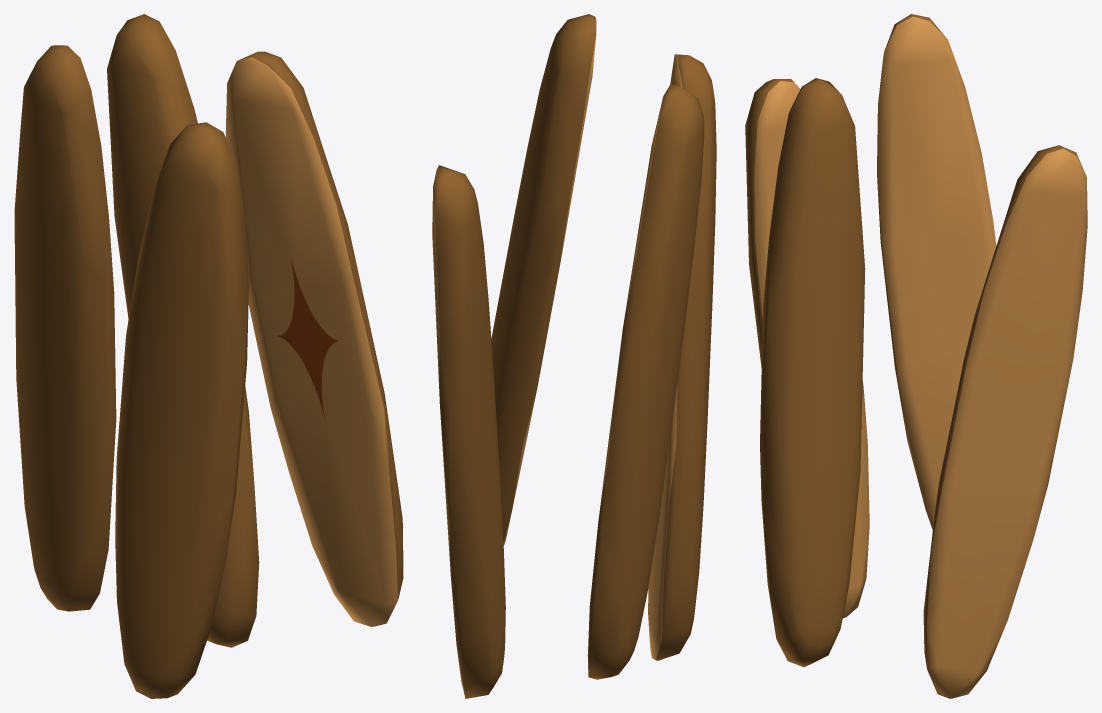
The model's file is yoot-animation-2-korean-darker-more.glb.
3 views of the same model, side by side, from view 1: azimuth 30°, elevation 25°; view 2: azimuth 150°, elevation 25°; view 3: azimuth 270°, elevation 25° (orthographic). The views are drawn at different scales.
Parts seen in each view (by area): view 1: yoot1, yoot0, yoot2, yoot3; view 2: yoot2, yoot3, yoot0, yoot1; view 3: yoot3, yoot0, yoot2, yoot1.
Boxes of the visible parts, left/top/right/bottom form: yoot1: left=115, top=122, right=248, bottom=698; yoot0: left=225, top=51, right=403, bottom=626; yoot2: left=14, top=45, right=116, bottom=611; yoot3: left=107, top=14, right=259, bottom=647; yoot2: left=587, top=83, right=704, bottom=679; yoot3: left=432, top=165, right=505, bottom=698; yoot0: left=491, top=14, right=596, bottom=545; yoot1: left=648, top=54, right=716, bottom=660; yoot3: left=923, top=145, right=1087, bottom=698; yoot0: left=760, top=78, right=865, bottom=667; yoot2: left=877, top=14, right=996, bottom=530; yoot1: left=745, top=79, right=869, bottom=618.
Size of the model in its own units: 6.57 by 13.74 by 7.1.
4 materials, 4 textured.
